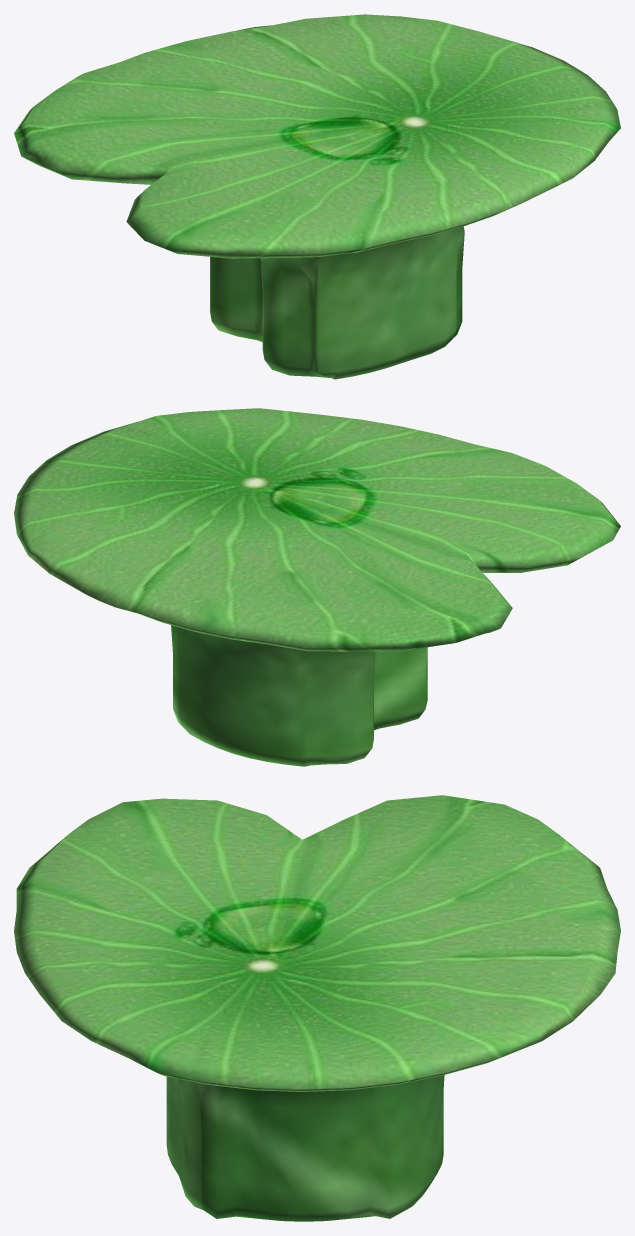
The model's file is lilypad1.fbx.
3 views of the same model, one above another, from view 1: azimuth 30°, elevation 25°; view 2: azimuth 150°, elevation 25°; view 3: azimuth 270°, elevation 25° (orthographic). The views are drawn at different scales.
Visible parts, largest first — view 1: Lilypad; view 2: Lilypad; view 3: Lilypad.
Part boxes in pixels (x1=…): Lilypad: x1=14, y1=14, x2=620, y2=379; Lilypad: x1=14, y1=408, x2=620, y2=766; Lilypad: x1=14, y1=795, x2=620, y2=1221.
Bounding box in the file's own units: 7.7 × 3 × 6.75.
Materials: 1 (1 with a texture image).
